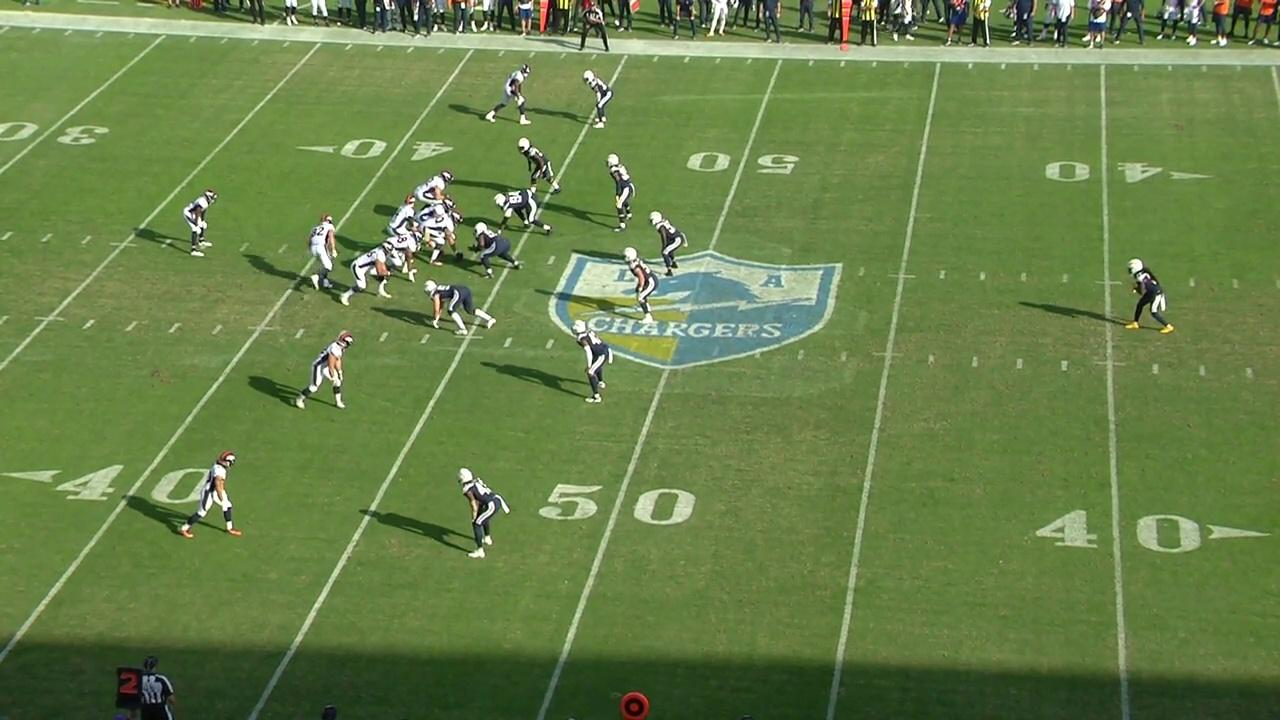player: (180, 447, 241, 537), (291, 329, 355, 414), (422, 278, 497, 335), (1123, 259, 1175, 336), (456, 466, 502, 553), (570, 318, 616, 403), (341, 240, 395, 306), (467, 222, 525, 278), (482, 62, 531, 128), (305, 212, 340, 296), (494, 189, 555, 236), (625, 246, 658, 323), (182, 188, 218, 258), (648, 211, 687, 275), (423, 208, 463, 269), (517, 136, 560, 192), (606, 152, 634, 232), (580, 66, 614, 130), (385, 231, 424, 282), (413, 170, 455, 203), (387, 195, 420, 237), (418, 196, 458, 223)
ref: (137, 649, 176, 720), (575, 4, 609, 51)
